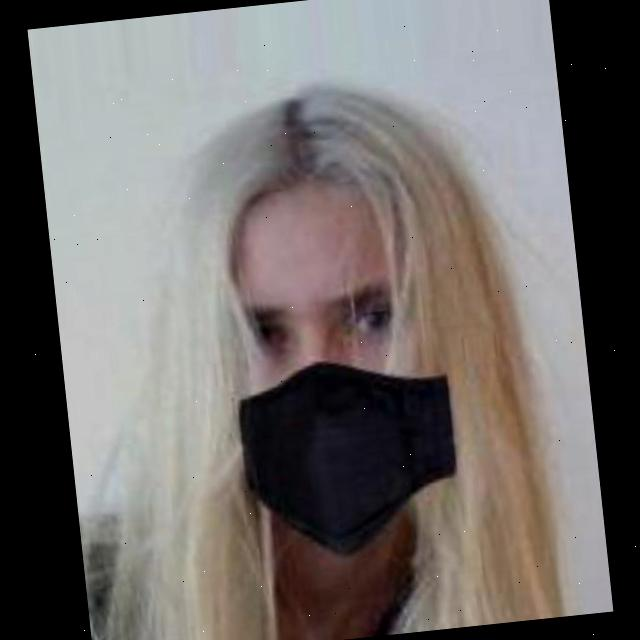suspicion: (123, 107, 538, 618)
